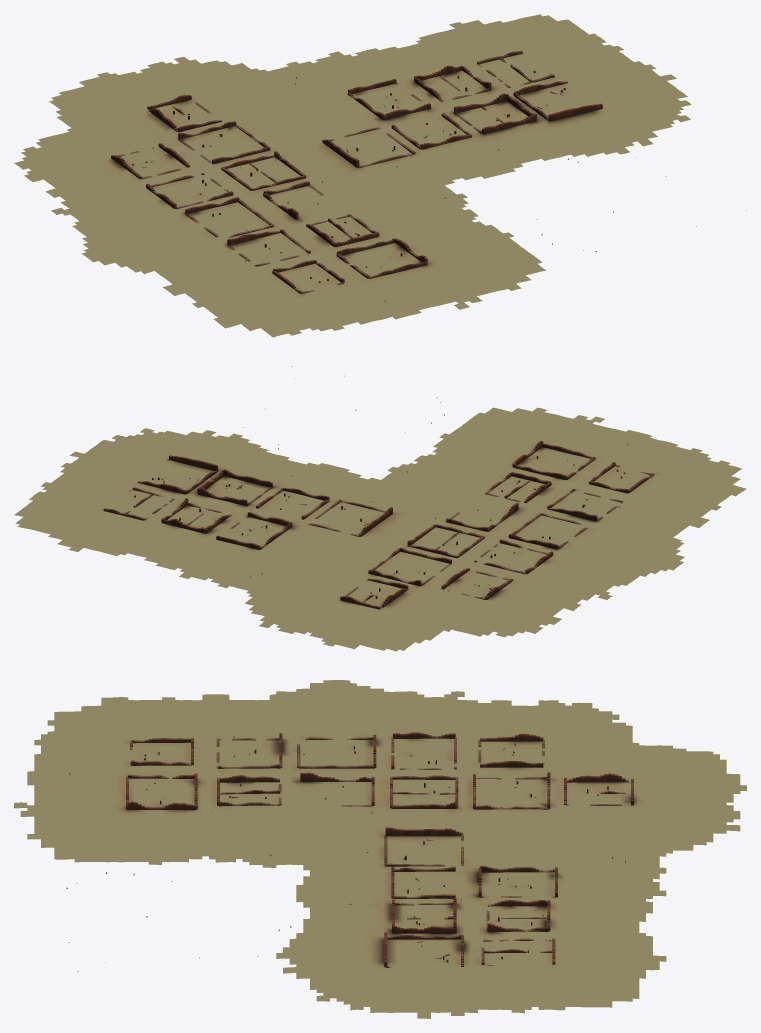
The picture shows the model from 3 angles, top to bottom: view 1: azimuth 30°, elevation 25°; view 2: azimuth 150°, elevation 25°; view 3: azimuth 270°, elevation 25°; orthographic projection. The views are drawn at different scales.
Visible parts, largest first — view 1: sediment, buildings; view 2: sediment, buildings; view 3: sediment, buildings.
Boxes of the visible parts, x1,y1,x2,y2 form: sediment: [14, 14, 691, 337]; buildings: [111, 50, 602, 293]; sediment: [14, 407, 746, 651]; buildings: [103, 440, 654, 609]; sediment: [14, 680, 746, 1018]; buildings: [126, 732, 633, 967].
Size of the model in its own units: 119 by 1.95 by 109.
Materials: 3 (1 with a texture image).
